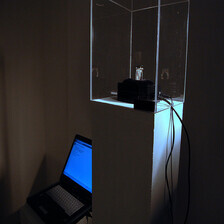laptop: (15, 131, 108, 221)
